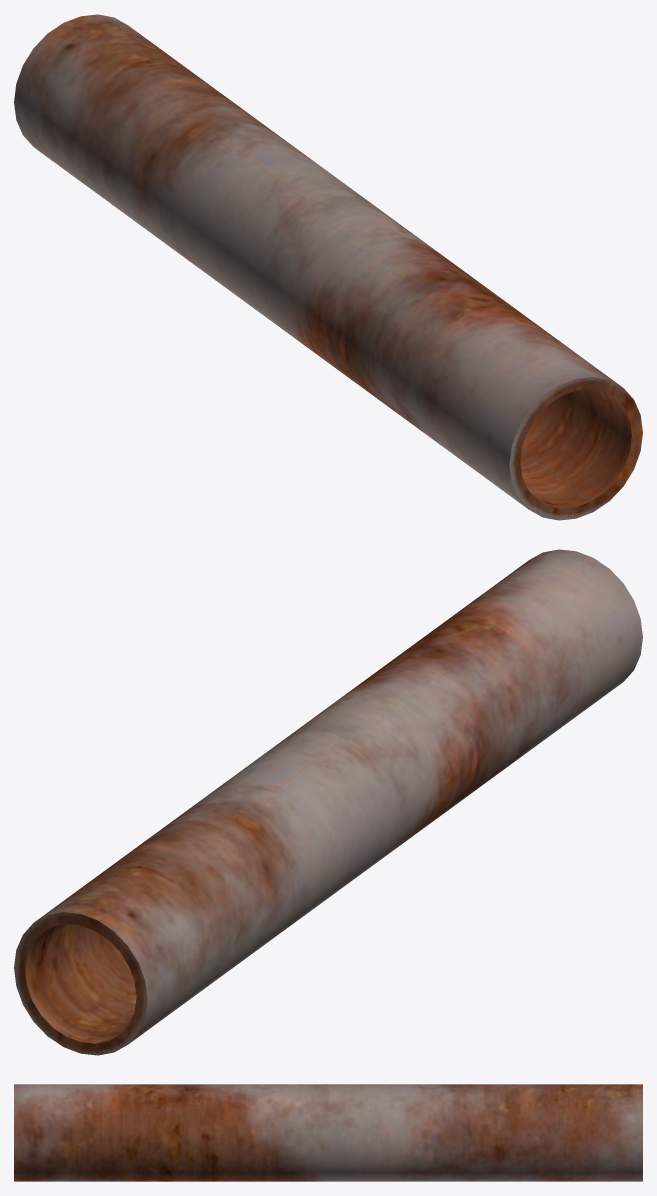
Rendered from small_steel_pipe_06.glb.
The picture shows the model from 3 angles, top to bottom: view 1: azimuth 30°, elevation 25°; view 2: azimuth 150°, elevation 25°; view 3: azimuth 270°, elevation 25°; orthographic projection. The views are drawn at different scales.
Parts seen in each view (by area): view 1: small_steel_pipe_06; view 2: small_steel_pipe_06; view 3: small_steel_pipe_06.
Boxes of the visible parts, x1,y1,x2,y2 form: small_steel_pipe_06: [14, 14, 642, 520]; small_steel_pipe_06: [14, 549, 642, 1055]; small_steel_pipe_06: [14, 1084, 642, 1181].
Size of what is drawn, in the model's own units: 0.0202 by 0.0202 by 0.13.
Materials: 1 (1 with a texture image).
